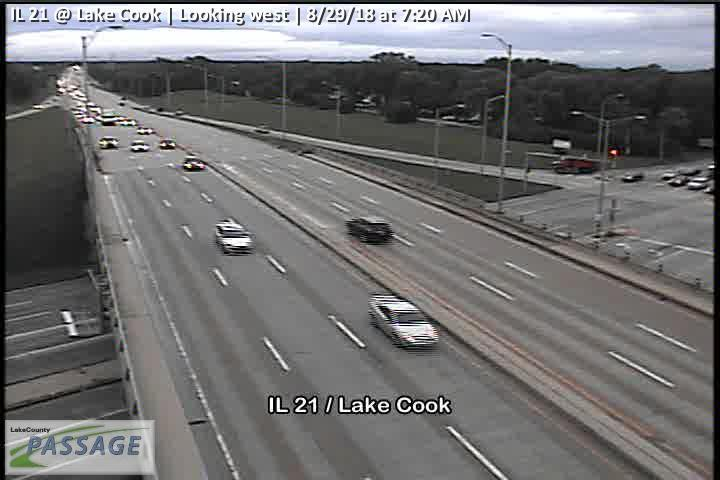SUV: (345, 216, 393, 243)
Sedan: (368, 294, 440, 349), (214, 221, 253, 255)
